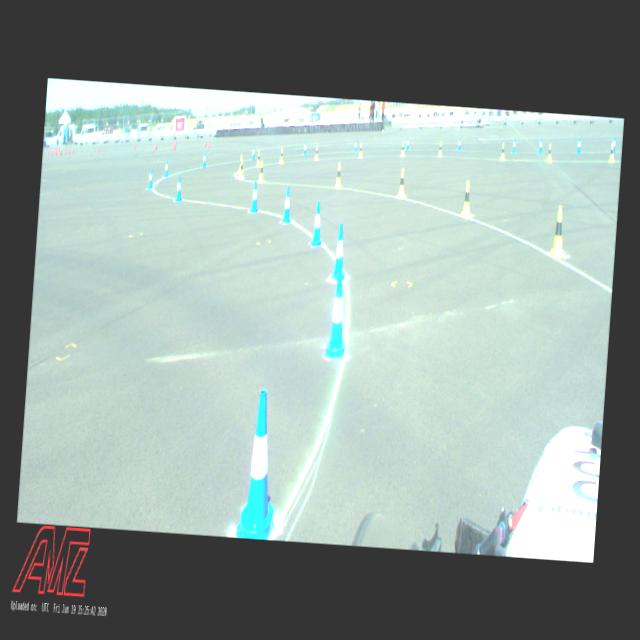blue_cone: (236, 388, 284, 540), (324, 270, 350, 358), (330, 222, 349, 281), (310, 201, 324, 247), (282, 186, 292, 224), (250, 180, 259, 212), (174, 174, 183, 202), (148, 168, 154, 190), (163, 158, 169, 178), (576, 137, 582, 153), (611, 136, 616, 152), (511, 138, 516, 152), (353, 139, 358, 152), (538, 137, 542, 153), (202, 152, 206, 167), (251, 146, 255, 159), (302, 141, 306, 154), (457, 138, 461, 150), (406, 138, 408, 148)
yellow_cone: (550, 205, 567, 258), (461, 180, 472, 216), (398, 168, 407, 198), (334, 162, 342, 188), (608, 143, 616, 161), (258, 161, 264, 181), (238, 158, 244, 178), (238, 153, 244, 173), (546, 142, 552, 160), (279, 148, 284, 164), (358, 142, 363, 158), (500, 142, 504, 160), (256, 150, 260, 167), (314, 144, 318, 160), (438, 140, 442, 156), (400, 140, 404, 156)
